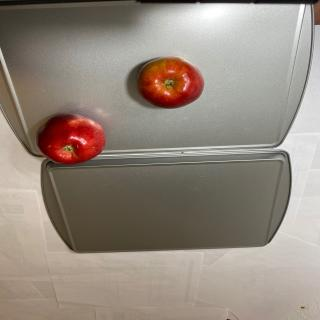Apple: (35, 113, 106, 165), (136, 56, 204, 109)
